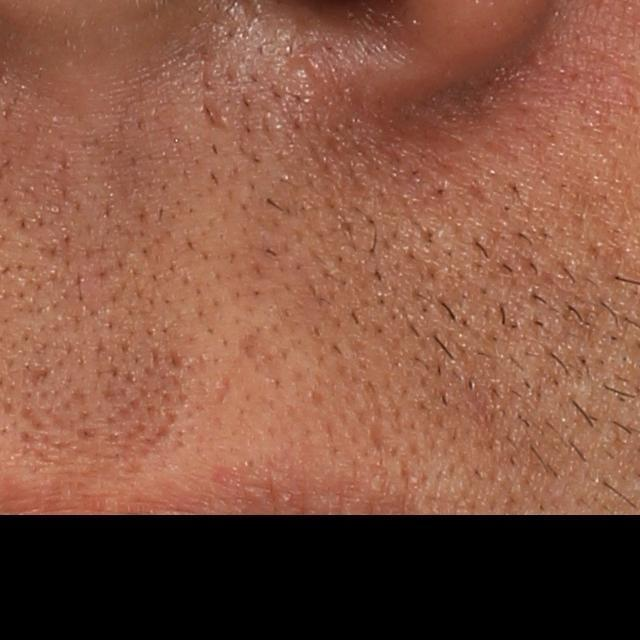atrophic_scar: (198, 80, 232, 138)
